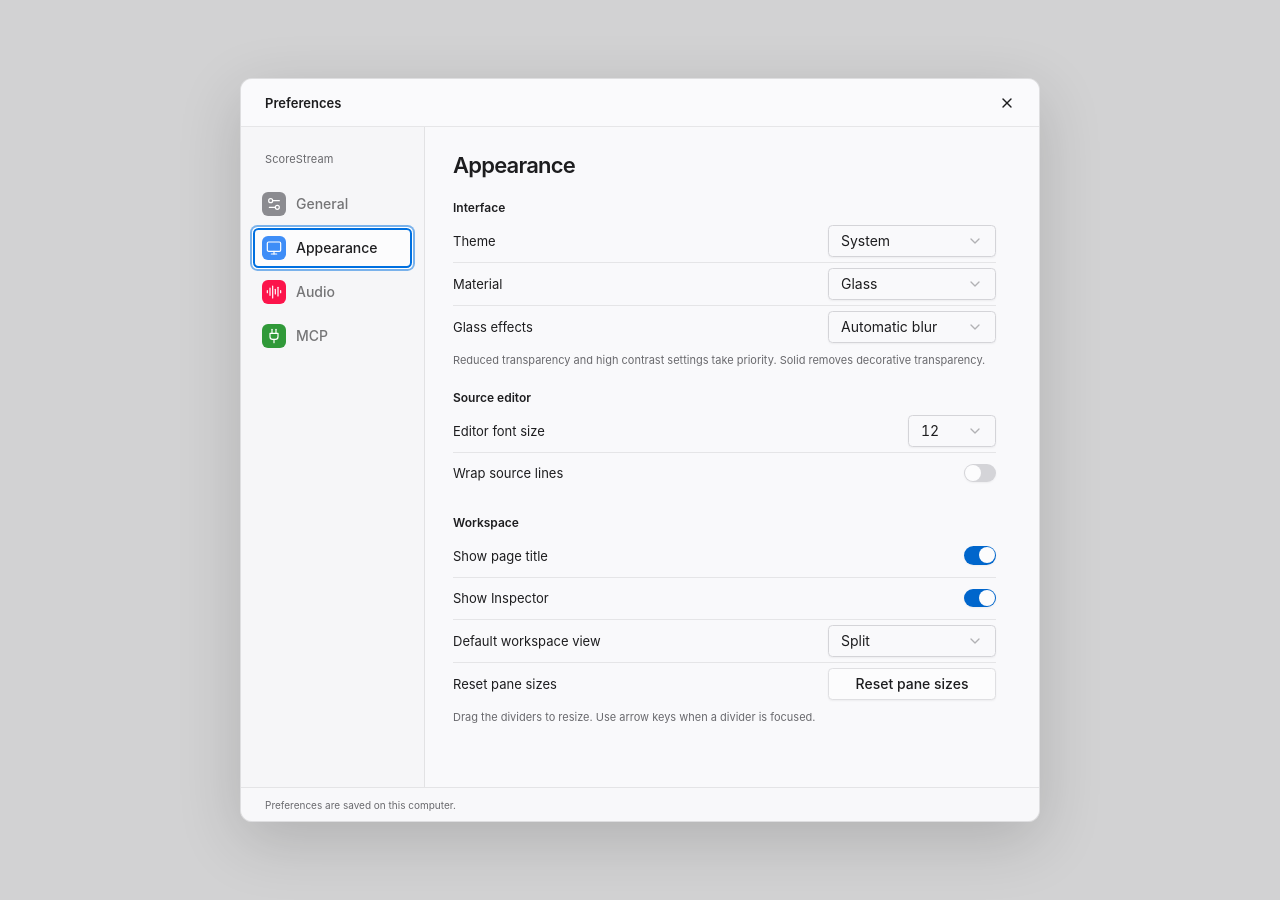
it: React Preferences › updates font and switches, keeps shared controls labelled, and has no fake audio settings
This screenshot has width=1280, height=900.
Later steps or results of the test are not shown.
Click the switch in the row of "Wrap source lines".
click(980, 473)  # box [964, 464, 996, 482]
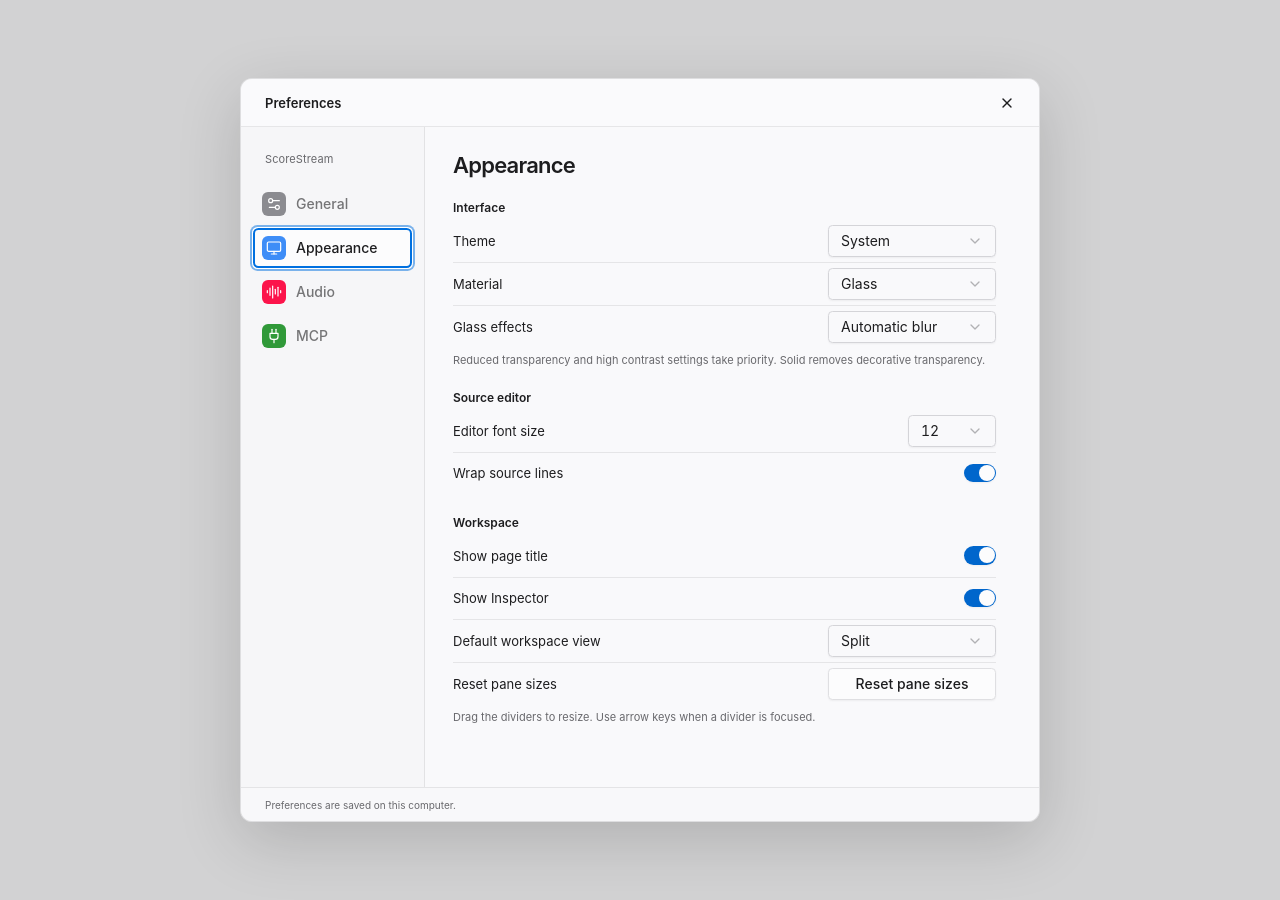
Check: the switch in the row of "Wrap source lines" is checked, box [964, 464, 996, 482]
Press Enter in the dropdown labelled "12", box [908, 414, 996, 446]
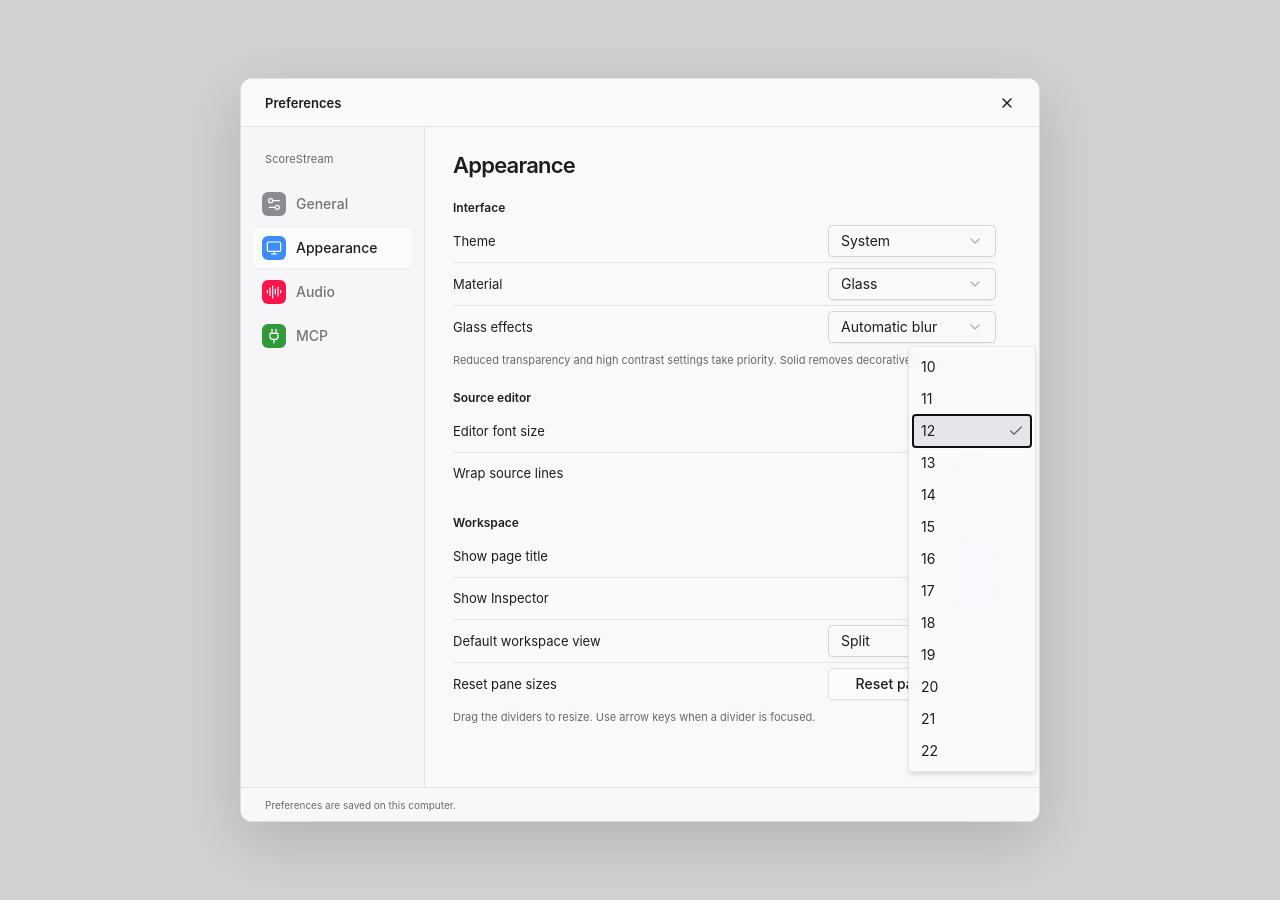
Press Enter in the option "18", box [921, 614, 935, 630]
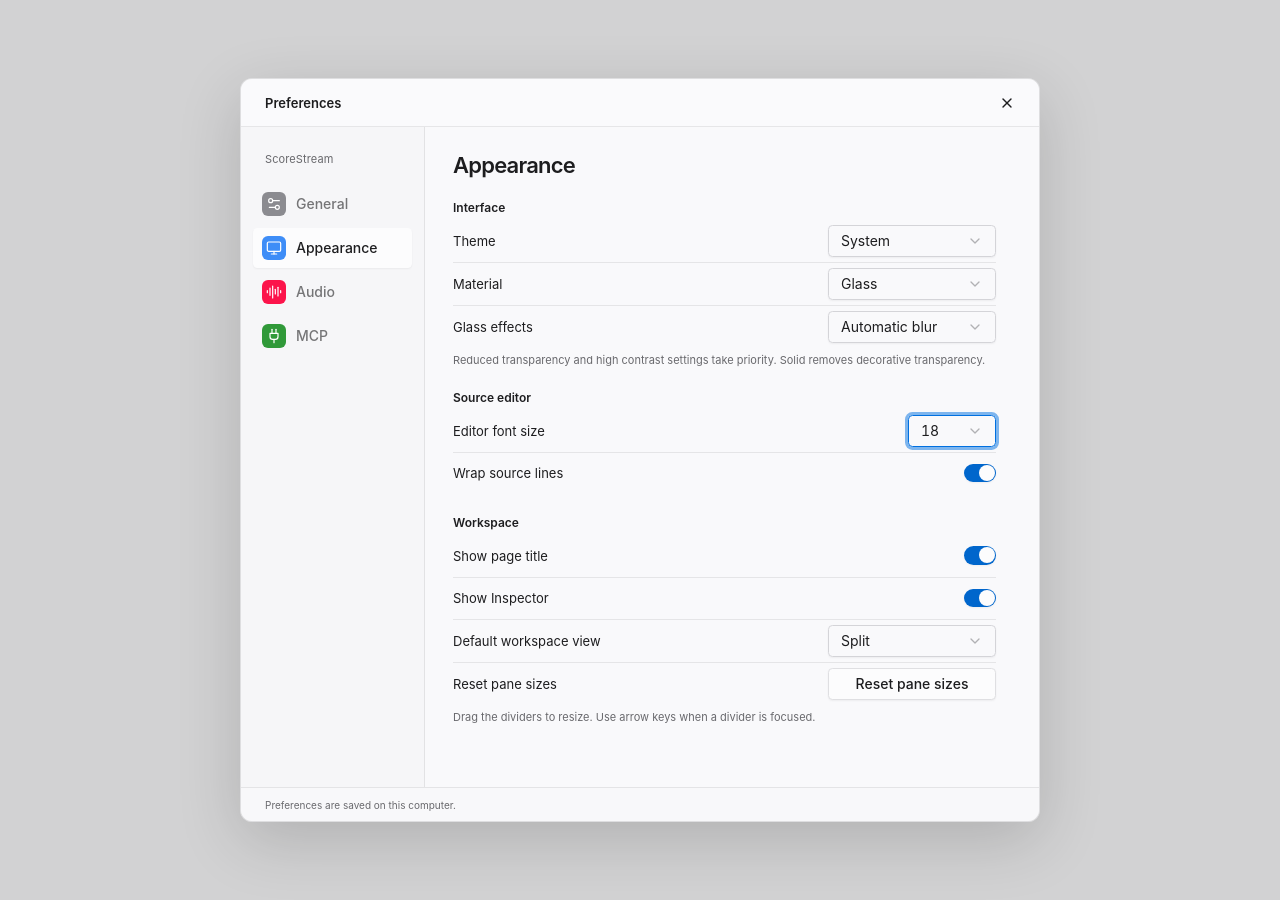
Check: the dropdown labelled "18" is shown
Press Enter in the dropdown labelled "18", box [908, 414, 996, 446]
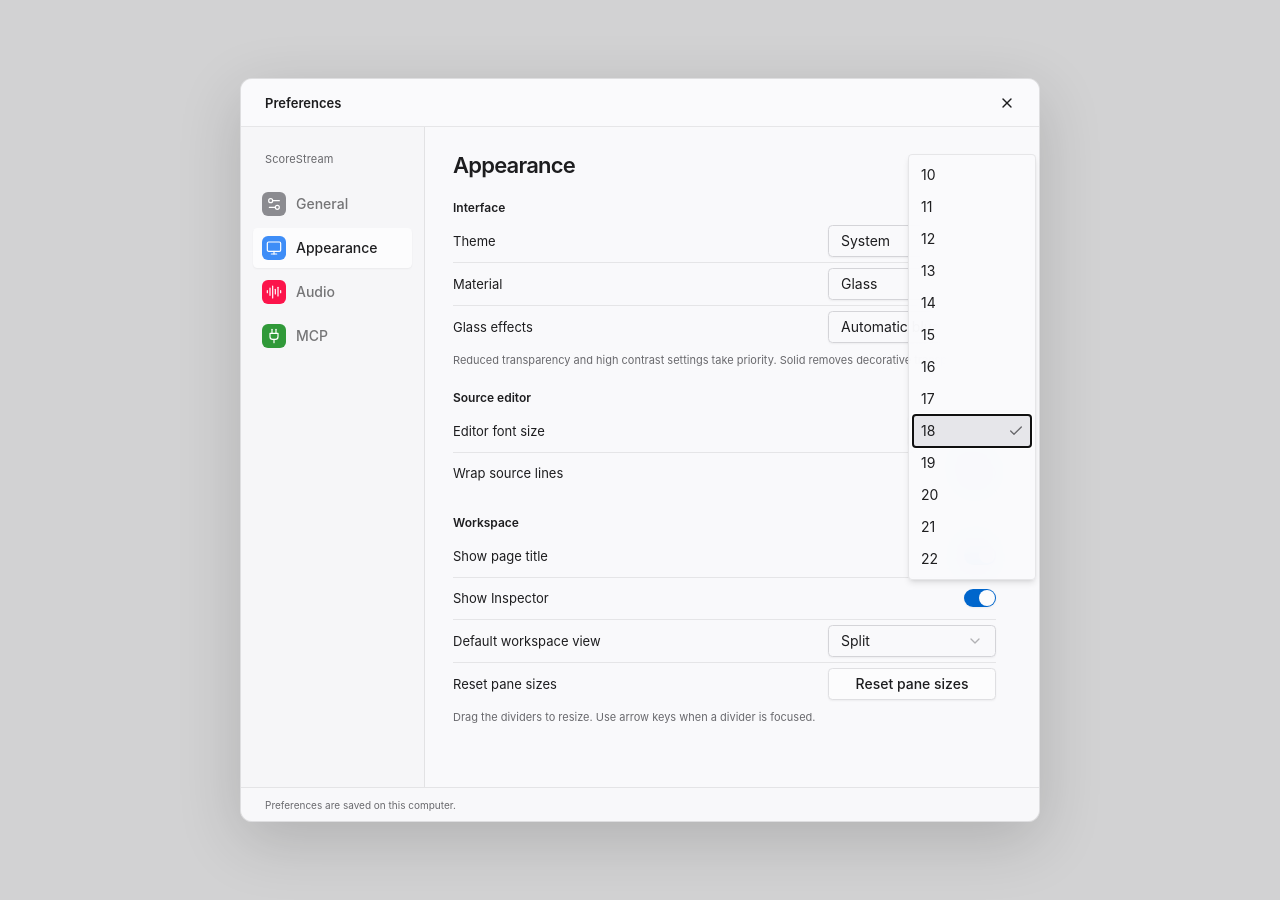
Press Enter in the option "22", box [921, 550, 938, 566]
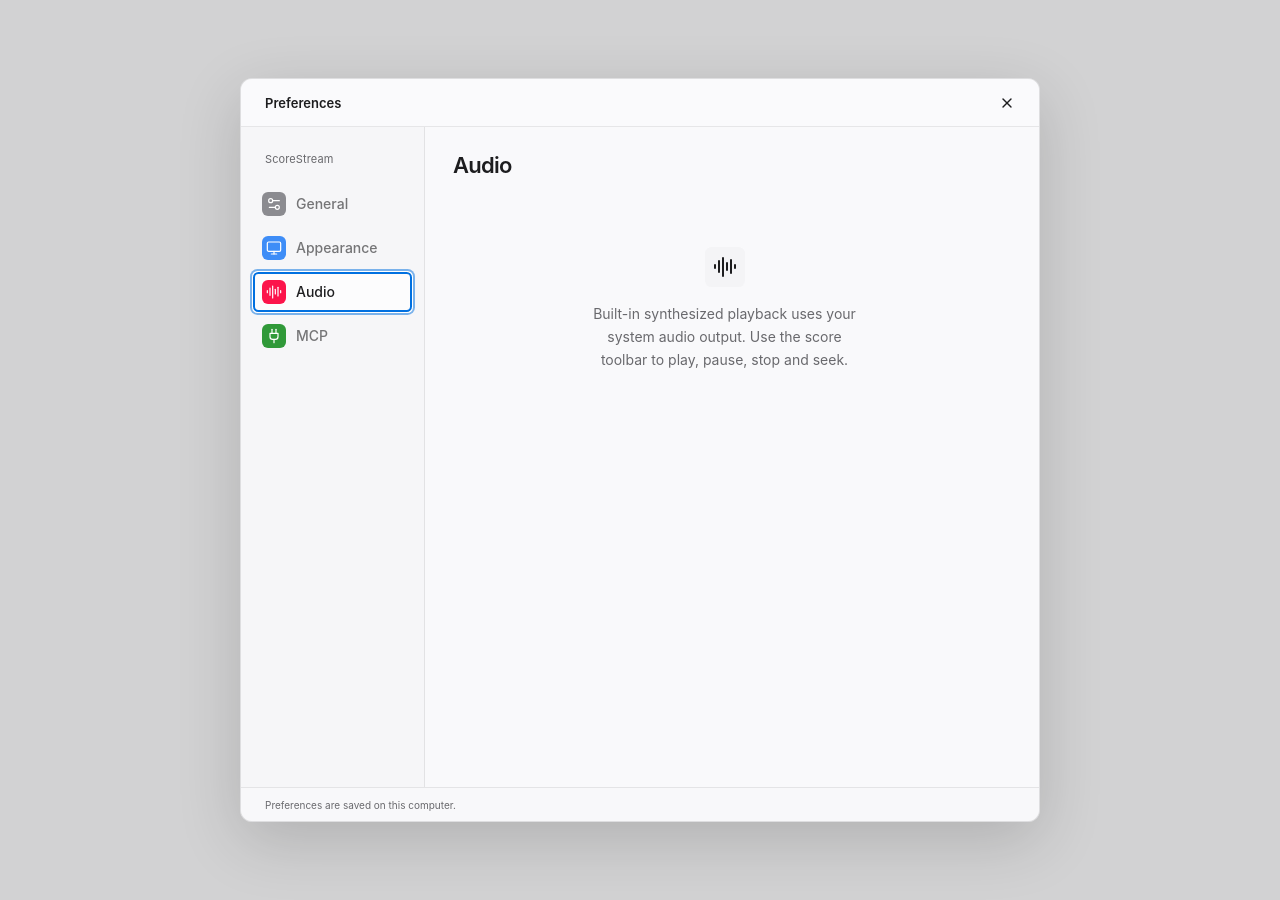
Check: the element with id "audio-settings" shows "Built-in synthesized playback uses your system audio output", box [593, 305, 856, 368]
